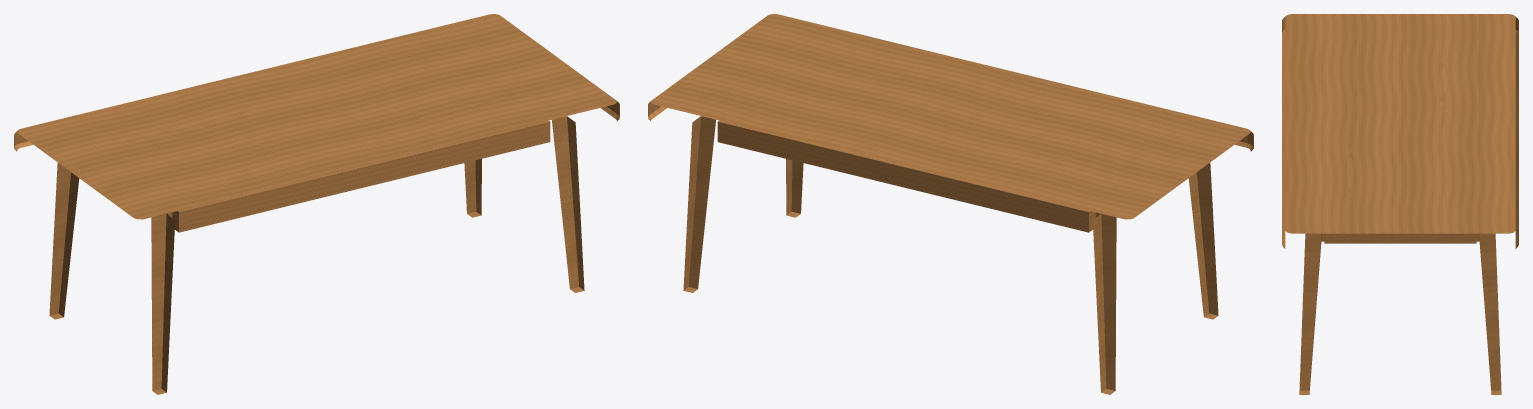
The model's file is dining-table-v1.glb.
3 renders of one model, left to right at view 1: azimuth 30°, elevation 25°; view 2: azimuth 150°, elevation 25°; view 3: azimuth 270°, elevation 25°, orthographic. The views are drawn at different scales.
Visible parts, largest first — view 1: room03-dining-table; view 2: room03-dining-table; view 3: room03-dining-table.
Part boxes in pixels (left/top/right/bottom): room03-dining-table: left=14, top=14, right=619, bottom=394; room03-dining-table: left=648, top=14, right=1253, bottom=394; room03-dining-table: left=1282, top=14, right=1518, bottom=394.
Bounding box in the file's own units: 2 × 0.73 × 0.9.
1 material, 1 textured.
